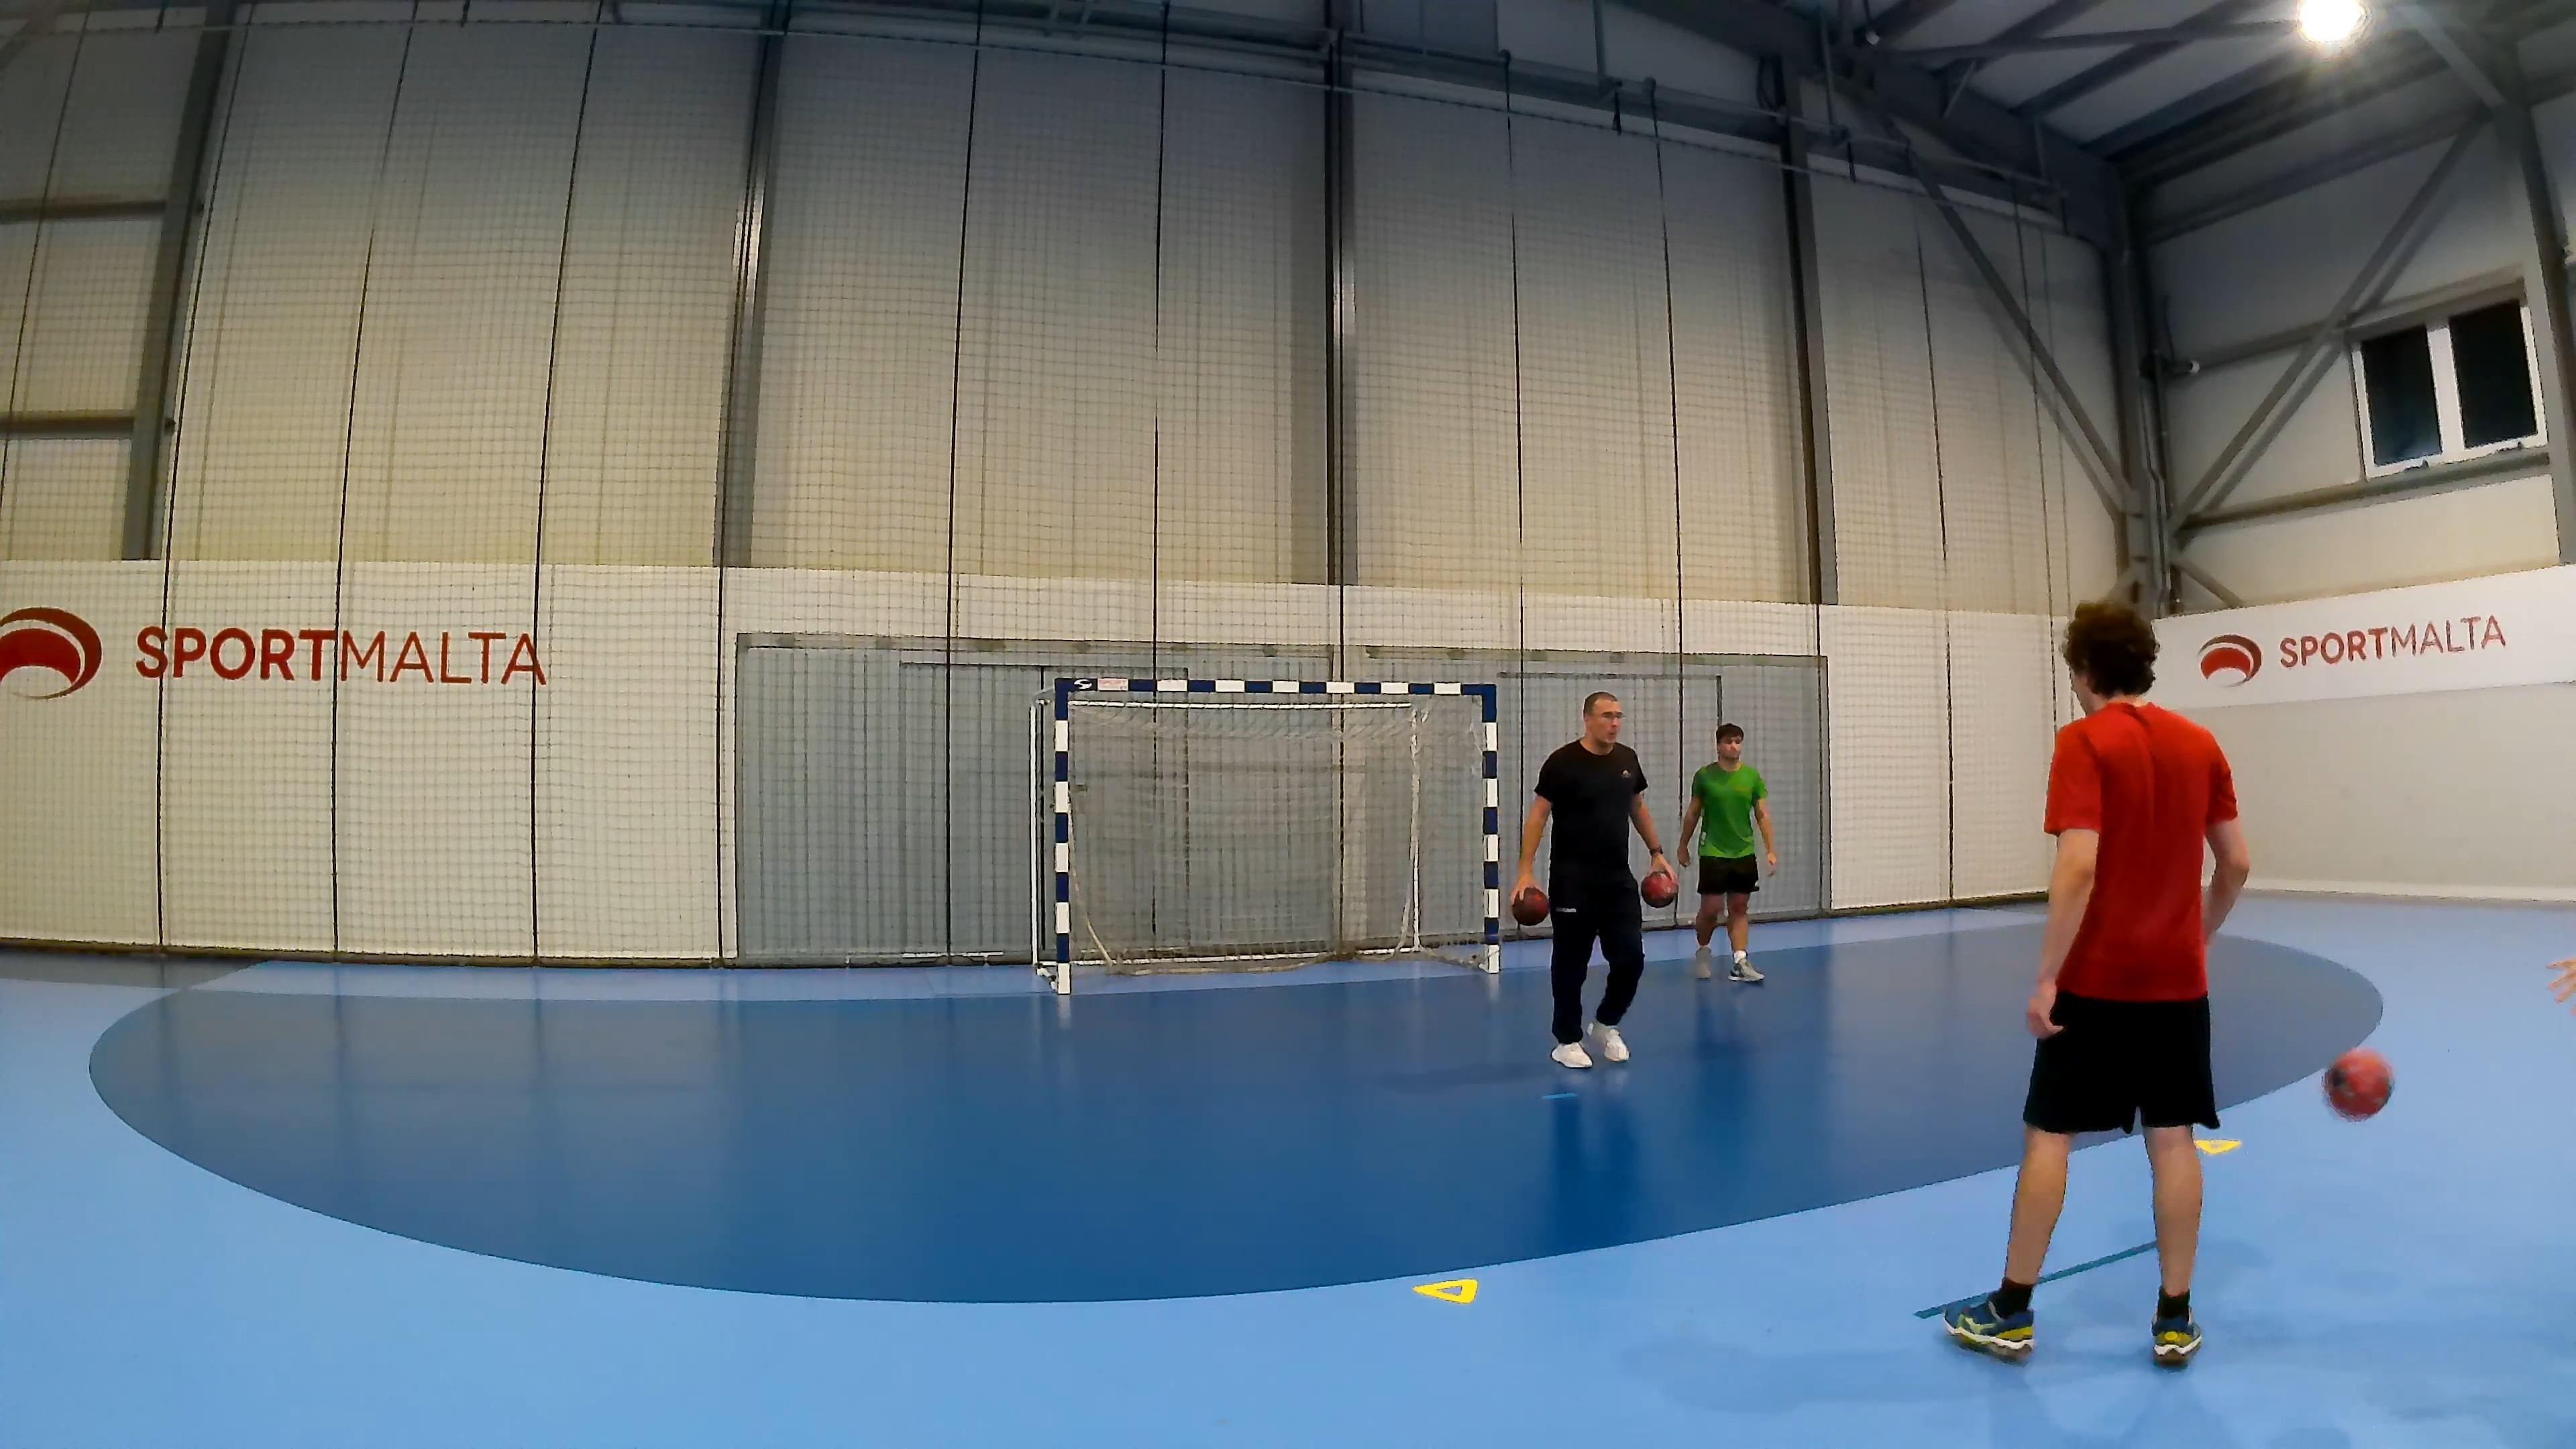handball: (2321, 1046, 2392, 1122), (1511, 885, 1548, 925), (1640, 867, 1677, 908)
